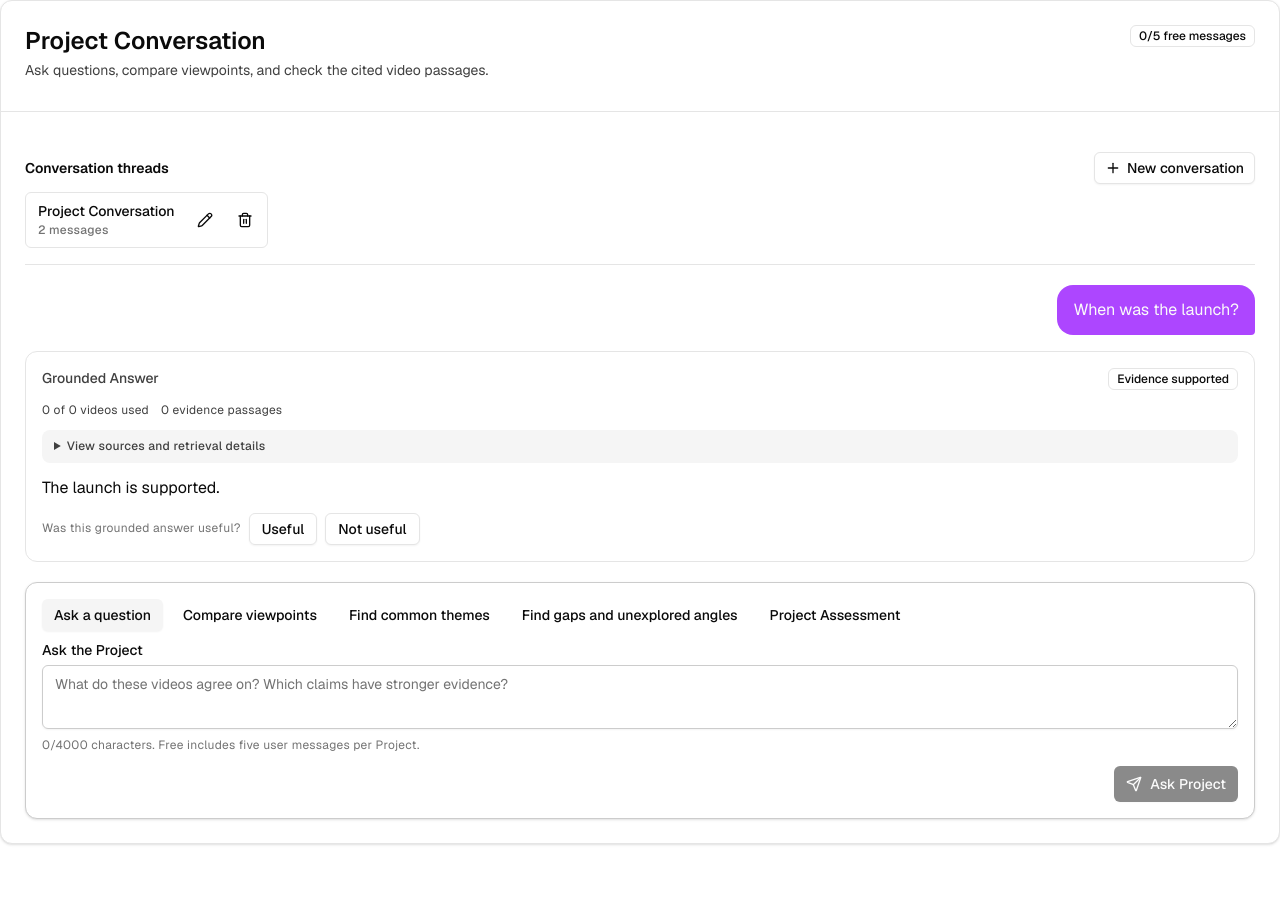
Test case: ProjectConversation › records a bounded feedback failure for HTTP 400 without private answer content
This screenshot has width=1280, height=900.
Click the button "Useful". click: (283, 529)
box: [249, 513, 317, 545]
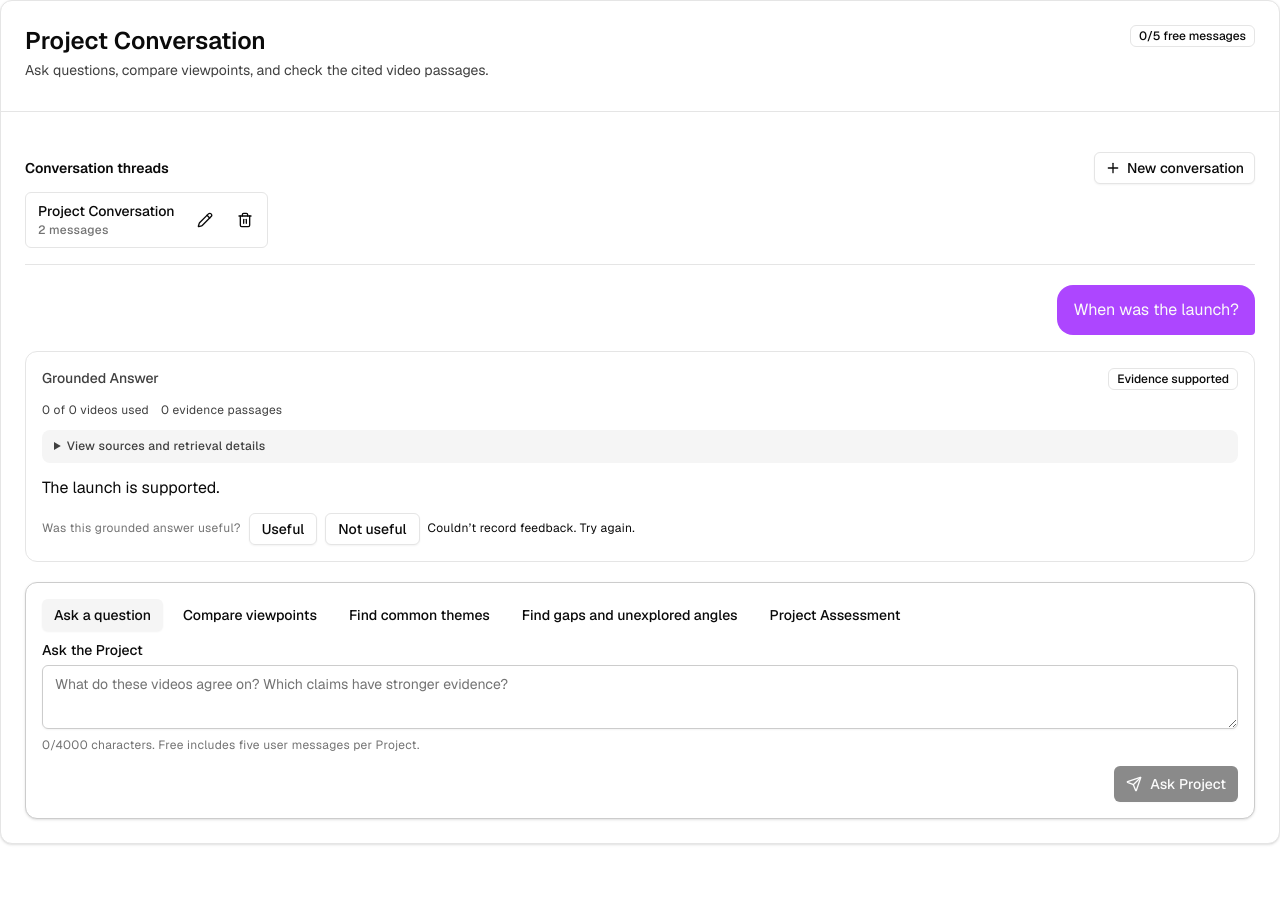
Check: the message "Couldn’t record feedback. Try again." is shown, box [428, 520, 635, 537]
